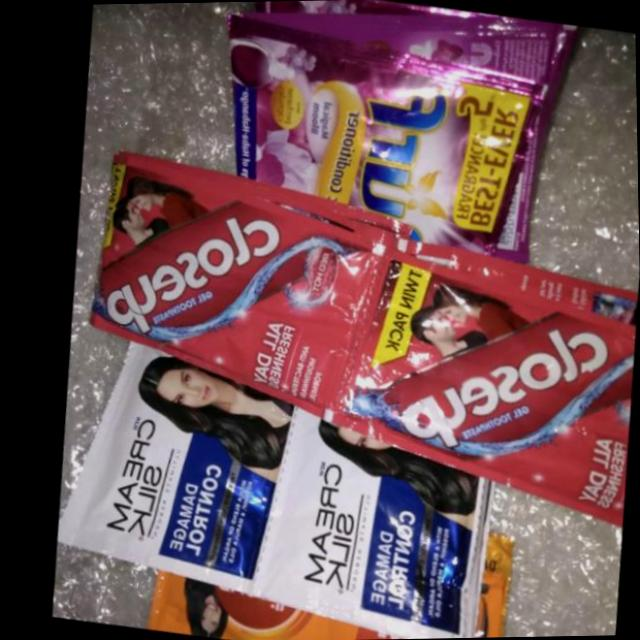goi_nhua_nho: (323, 246, 631, 527), (83, 152, 377, 421), (231, 16, 547, 264), (49, 341, 293, 593), (240, 409, 486, 638), (241, 0, 576, 150), (138, 568, 392, 640), (467, 534, 506, 637)
